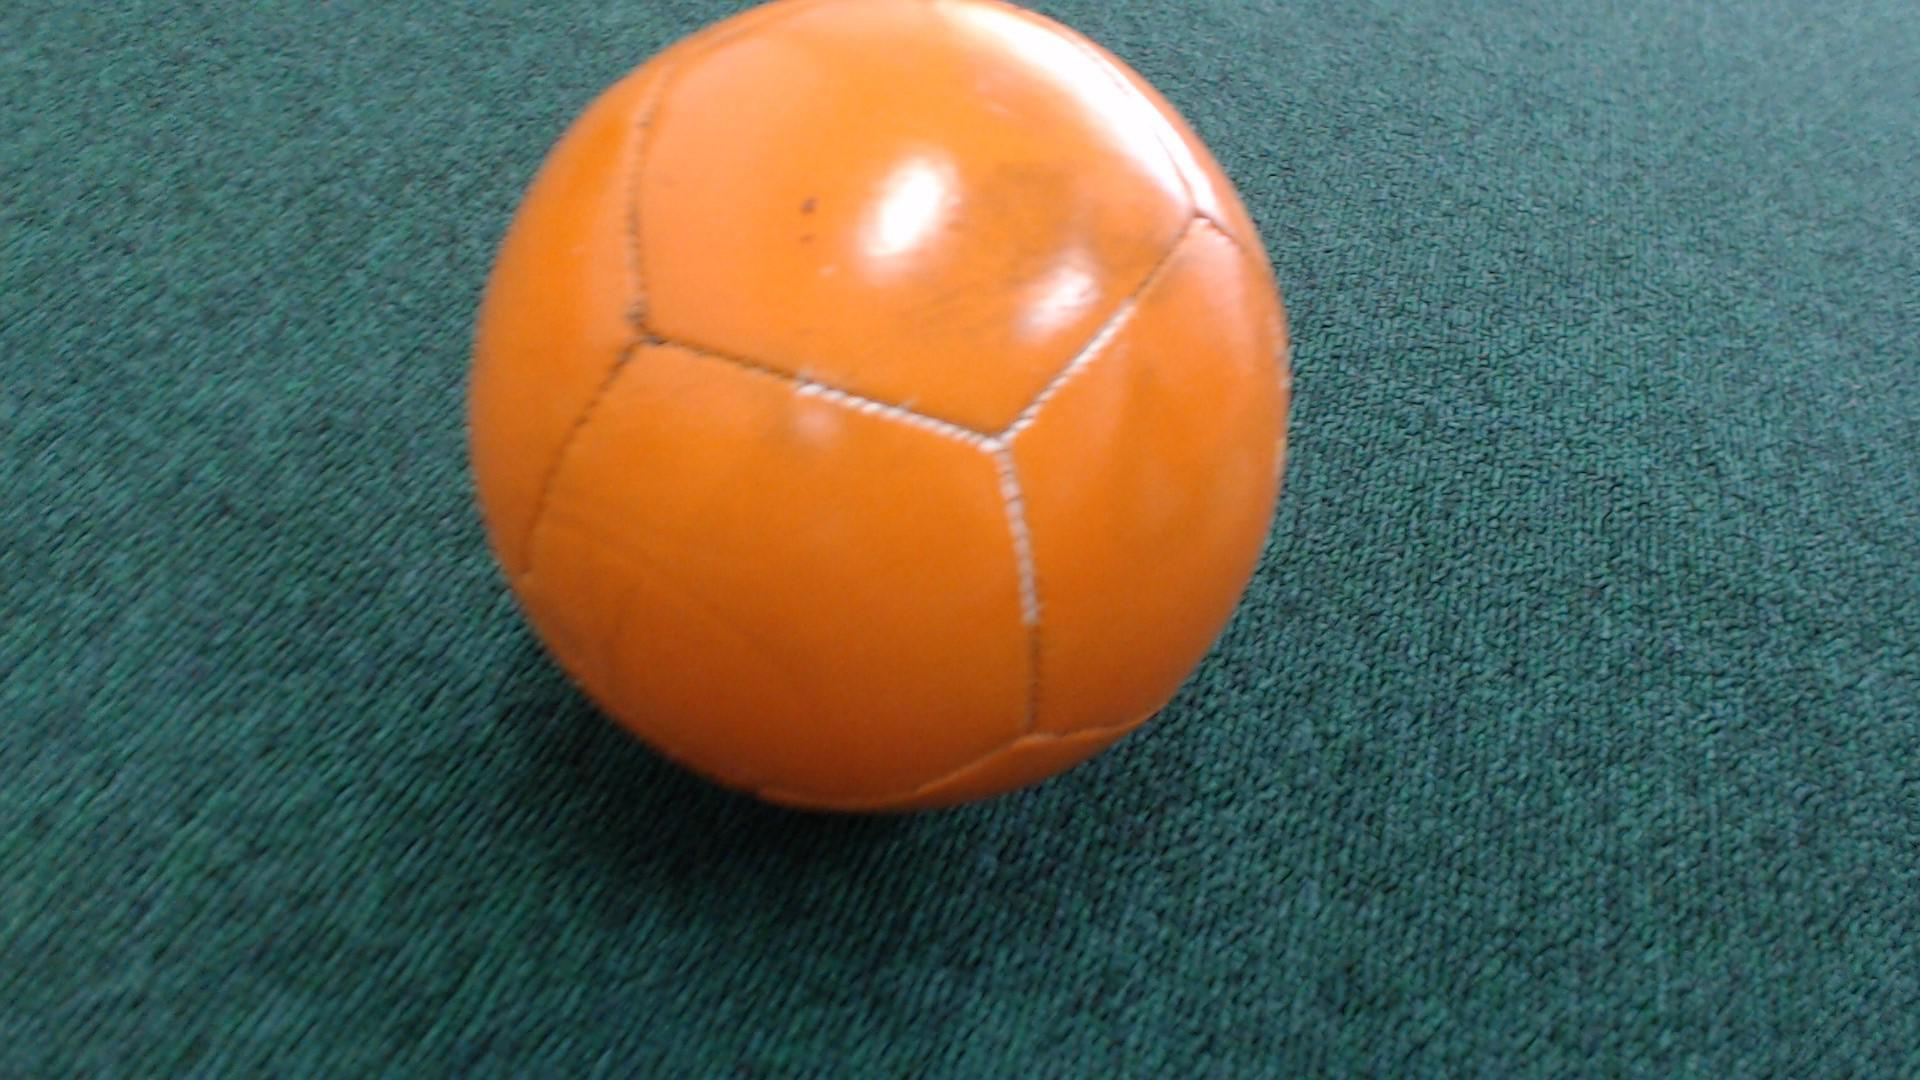bola: (440, 0, 1354, 824)
